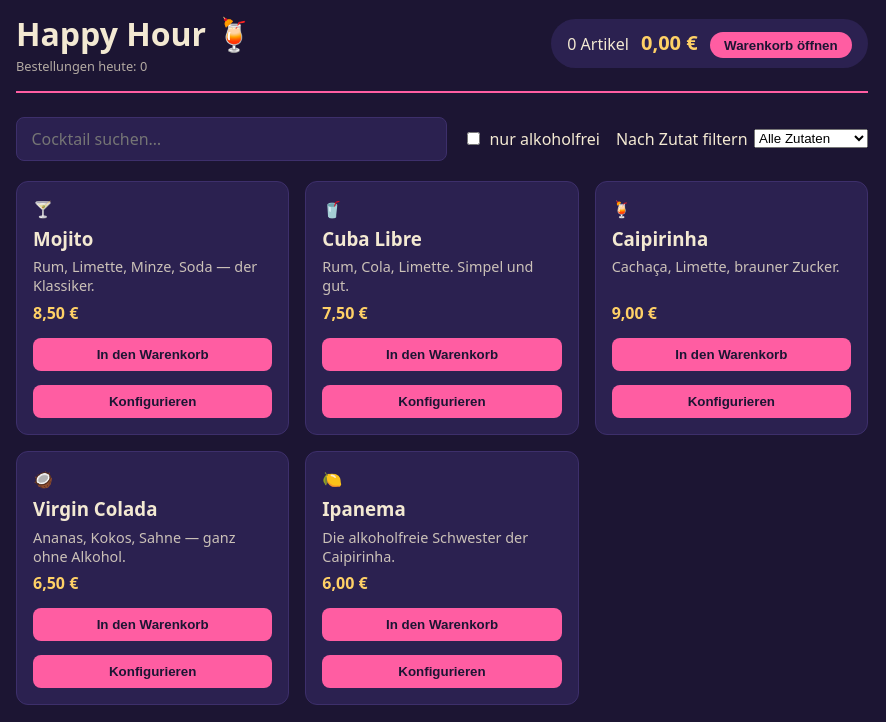
Test: App › filtert die Cocktail-Liste über das Zutat-Dropdown
This screenshot has width=886, height=722.
Select "Kokos" in the dropdown labelled "Nach Zutat filtern": [811, 139] box [754,130,868,148]
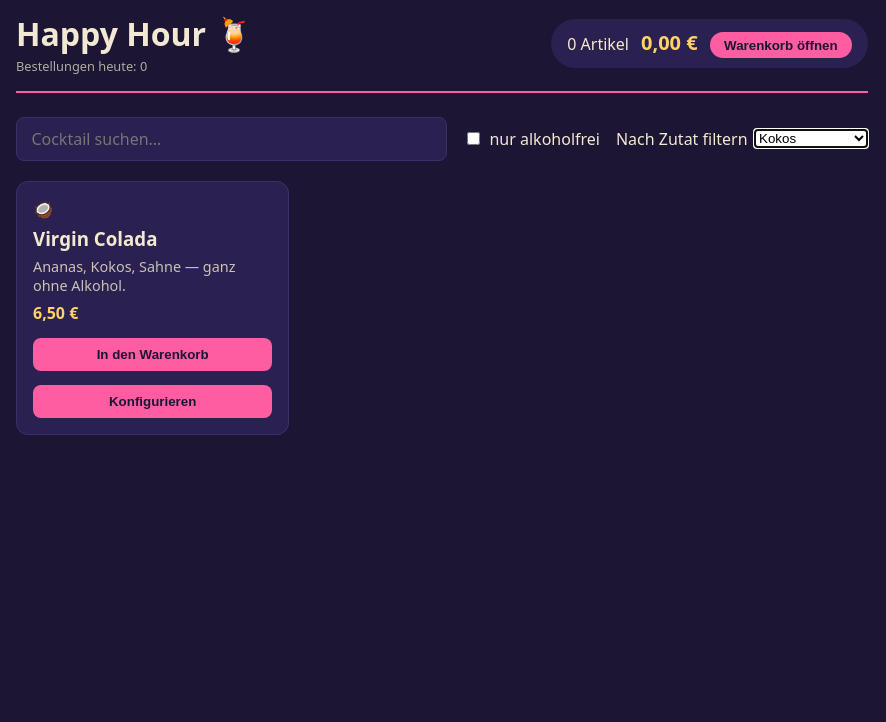
Expected: the heading "Virgin Colada" is shown, [33,226,158,251]
Now the heading "Mojito" is gone
